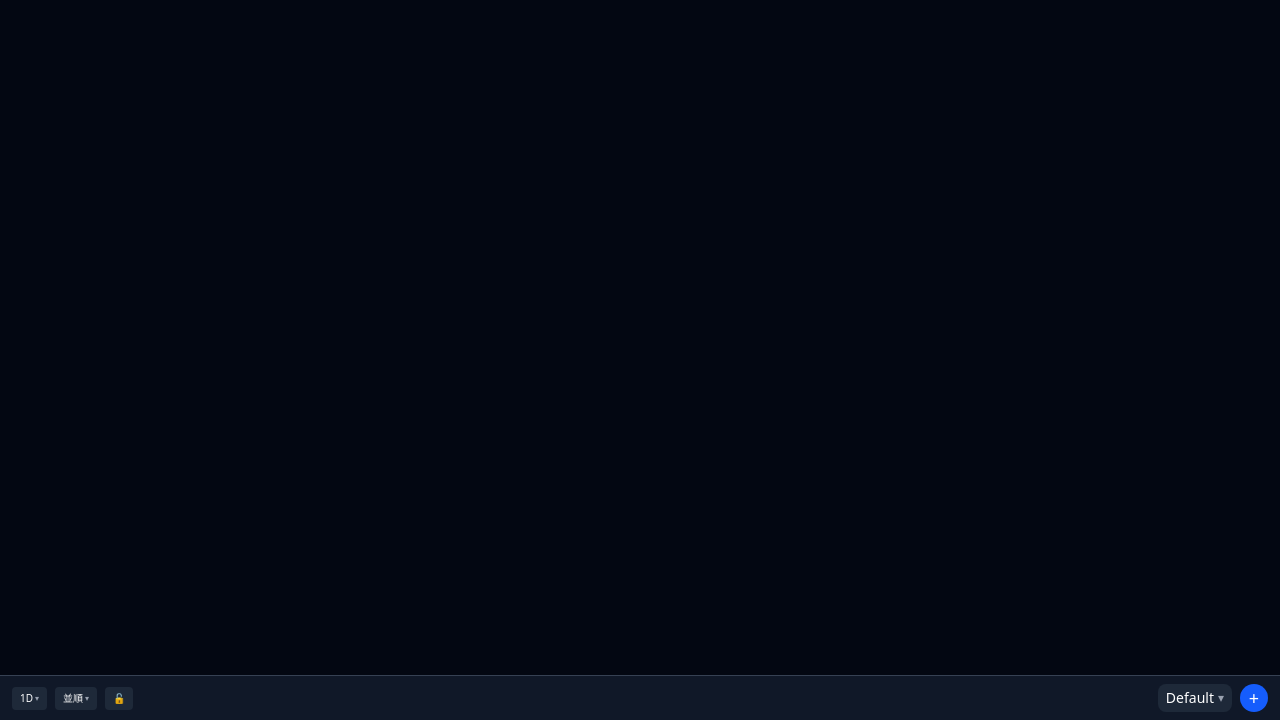
RefreshIndicator › shows watchlist dropdown when name is clicked
What coordinates should you click on to do the following:
click the text "Default"
I would click on:
 (1190, 698)
Its box is [1166,688,1214,708].
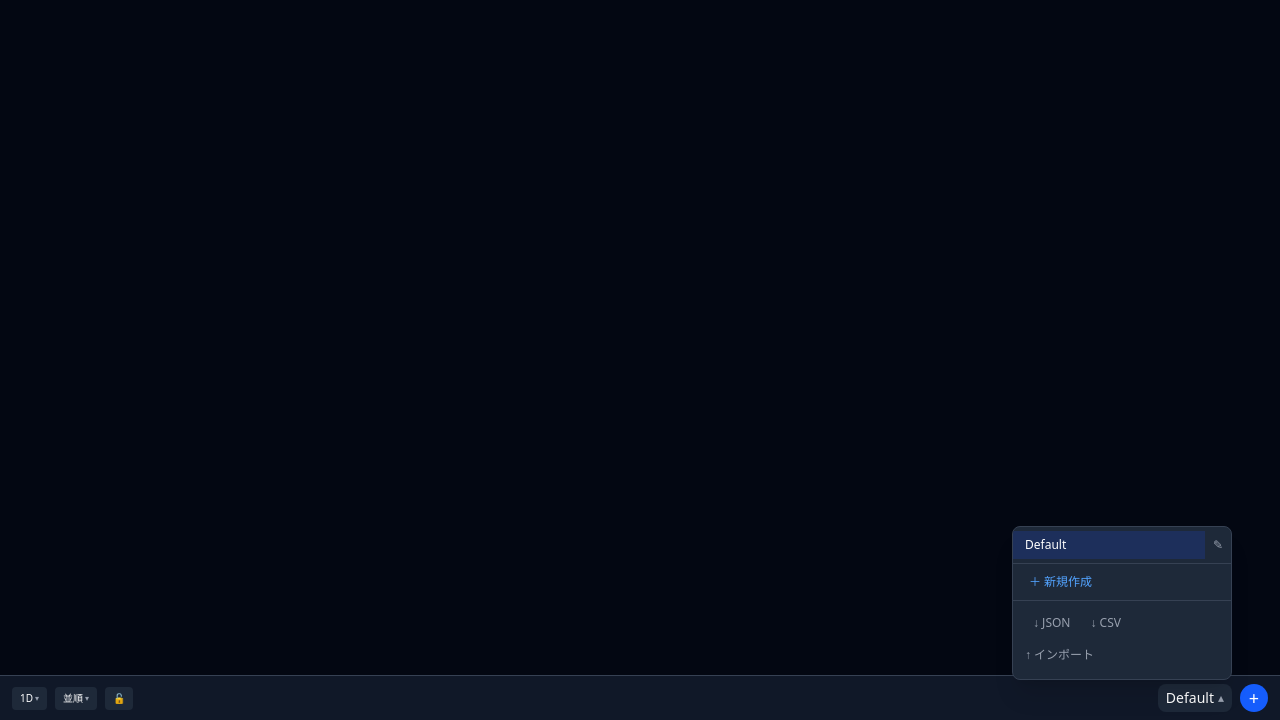
Result: the button "＋ 新規作成" is shown at [1013,568,1231,596]
